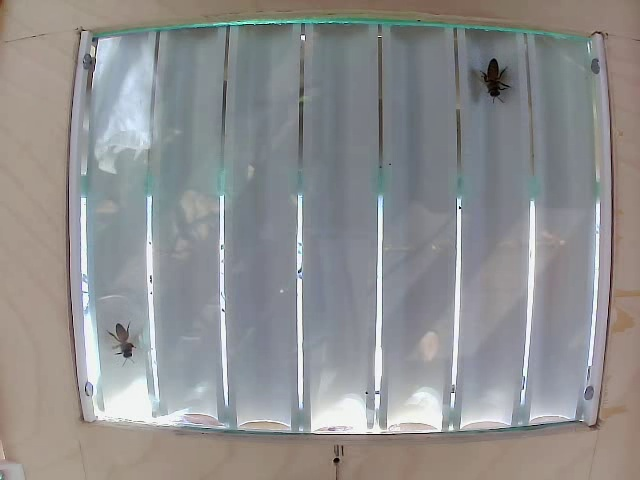bee: (475, 55, 505, 105), (110, 328, 148, 358)
